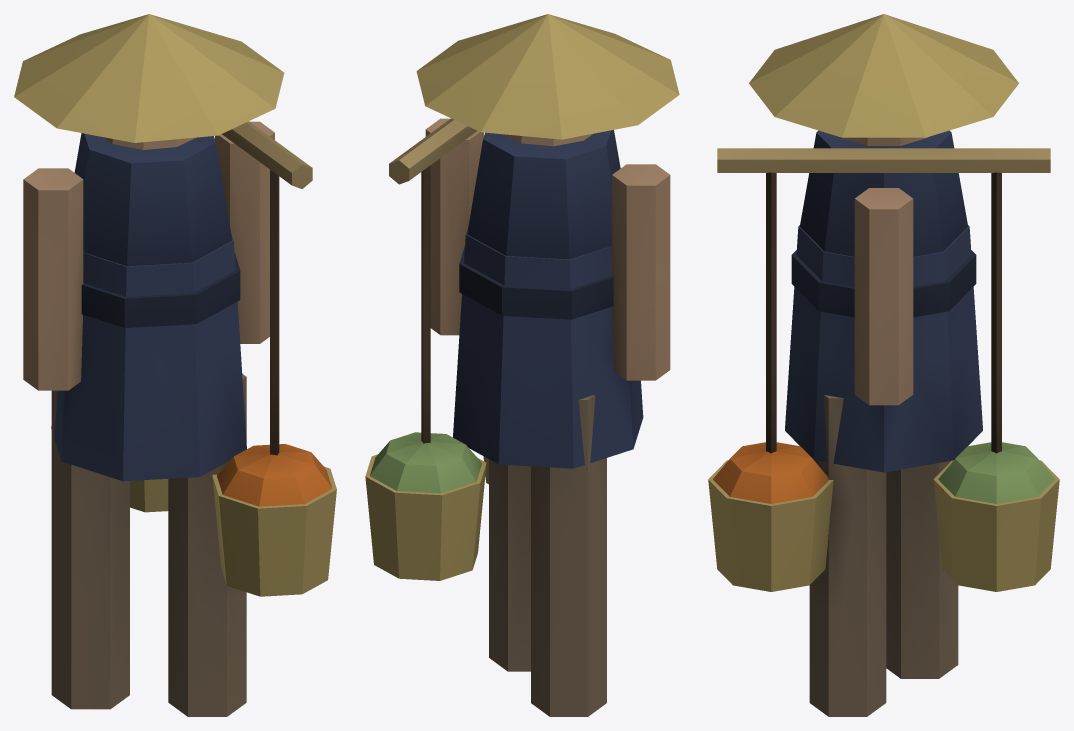
File: porter.glb
3 renders of one model, left to right at view 1: azimuth 30°, elevation 25°; view 2: azimuth 150°, elevation 25°; view 3: azimuth 270°, elevation 25°, orthographic. The views are drawn at different scales.
Visible parts, largest first — view 1: base; view 2: base; view 3: base.
Boxes of the visible parts, x1,y1,x2,y2 form: base: (14,14,336,716); base: (365,14,679,716); base: (708,14,1059,716).
Size of the model in its own units: 0.6063 by 1.64 by 0.78.
